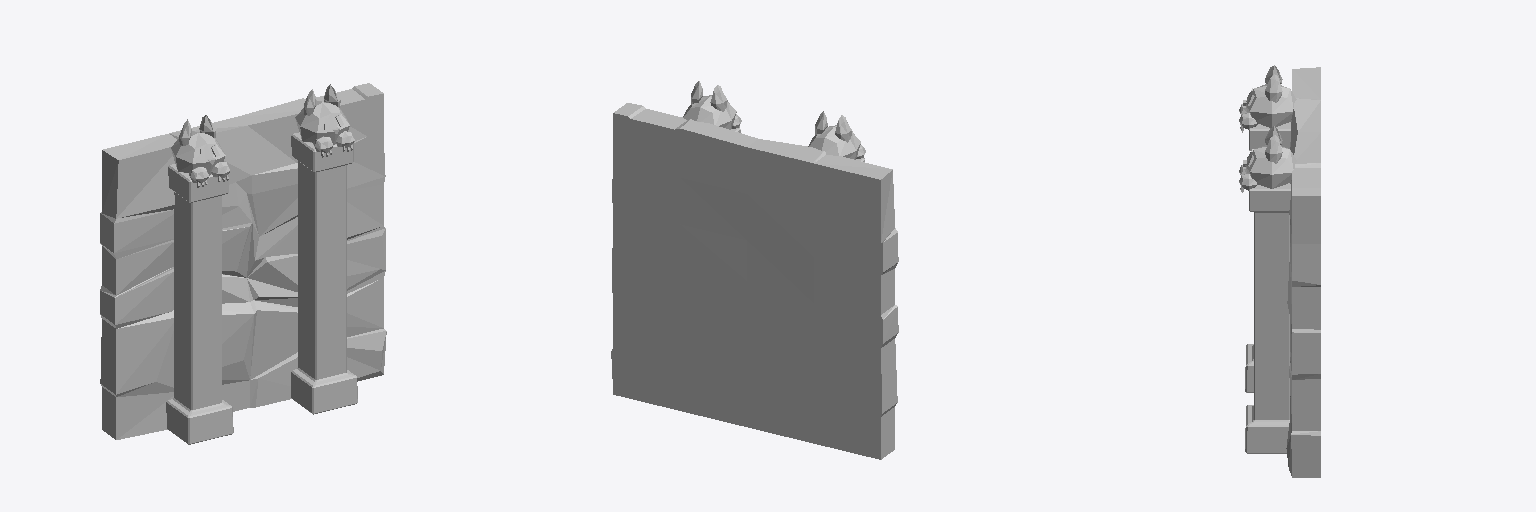
File: muro 3.obj
The picture shows the model from 3 angles: view 1: azimuth 30°, elevation 25°; view 2: azimuth 150°, elevation 25°; view 3: azimuth 270°, elevation 25°; orthographic projection.
Visible parts, largest first — view 1: muro_3 muro_3, muro_3 pilar_1, muro_3 pilar_2, muro_3 cabeza_1, muro_3 cabeza_2; view 2: muro_3 muro_3, muro_3 cabeza_1, muro_3 cabeza_2; view 3: muro_3 muro_3, muro_3 pilar_1, muro_3 cabeza_1, muro_3 cabeza_2, muro_3 pilar_2.
Boxes of the visible parts, x1=… form: muro_3 muro_3: x1=100, y1=83, x2=386, y2=439; muro_3 pilar_1: x1=291, y1=132, x2=357, y2=414; muro_3 pilar_2: x1=166, y1=164, x2=233, y2=444; muro_3 cabeza_1: x1=295, y1=100, x2=349, y2=144; muro_3 cabeza_2: x1=171, y1=131, x2=225, y2=175; muro_3 muro_3: x1=611, y1=103, x2=898, y2=459; muro_3 cabeza_1: x1=683, y1=95, x2=736, y2=129; muro_3 cabeza_2: x1=808, y1=125, x2=860, y2=159; muro_3 muro_3: x1=1286, y1=67, x2=1320, y2=477; muro_3 pilar_1: x1=1245, y1=183, x2=1290, y2=453; muro_3 cabeza_1: x1=1245, y1=145, x2=1296, y2=188; muro_3 cabeza_2: x1=1246, y1=84, x2=1296, y2=127; muro_3 pilar_2: x1=1245, y1=122, x2=1290, y2=392.
Bounding box in the file's own units: 21.91 × 24.01 × 5.73.